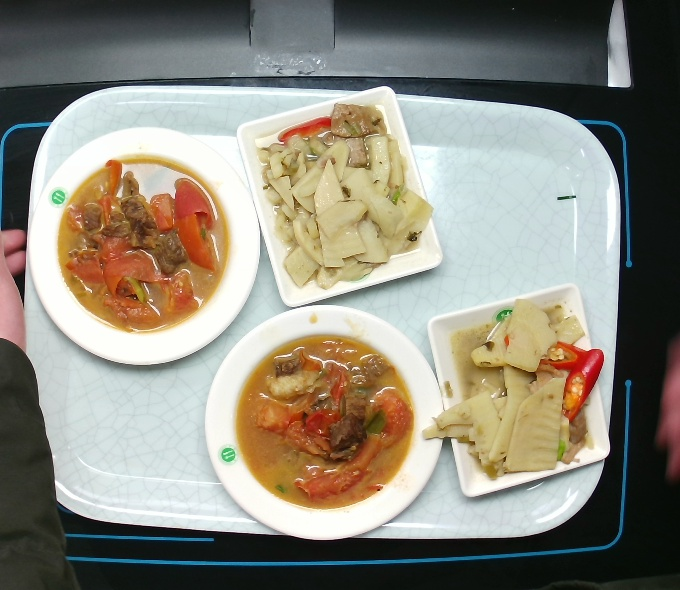wcq-DongSun: (245, 103, 437, 295), (419, 300, 607, 488)
wcq-FanQiwNiuRou: (228, 329, 419, 513), (62, 151, 237, 346)
